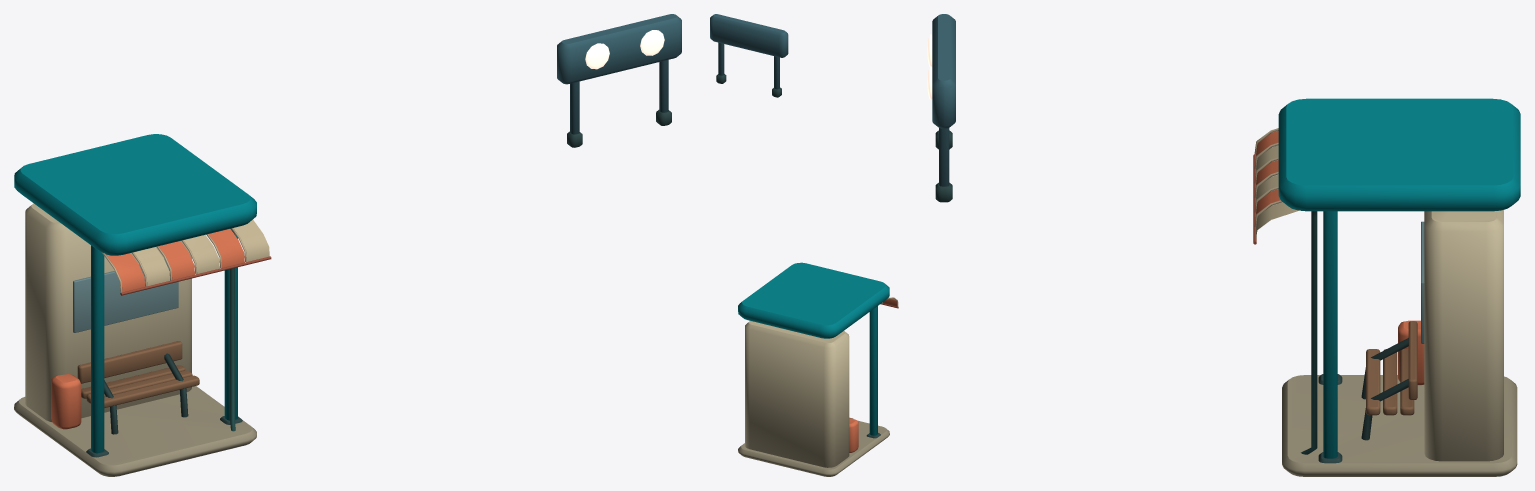
The model's file is ocean_motel_4.glb.
The picture shows the model from 3 angles, left to right: view 1: azimuth 30°, elevation 25°; view 2: azimuth 150°, elevation 25°; view 3: azimuth 270°, elevation 25°; orthographic projection. The views are drawn at different scales.
Visible parts, largest first — view 1: Motel4; view 2: Motel4; view 3: Motel4.
Part boxes in pixels (x1=…): Motel4: x1=14, y1=14, x2=681, y2=476; Motel4: x1=710, y1=14, x2=898, y2=476; Motel4: x1=927, y1=14, x2=1520, y2=476.
Size of the model in its own units: 6.33 by 6.48 by 6.25.
